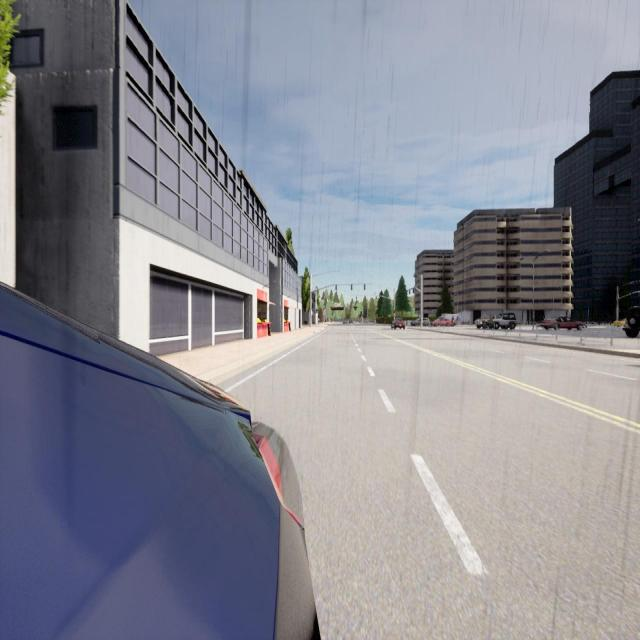Vehicle: (0, 283, 318, 640), (538, 317, 583, 331), (622, 304, 640, 337), (492, 312, 517, 330), (475, 315, 495, 329), (432, 317, 453, 327), (441, 314, 460, 325), (411, 317, 430, 326), (391, 319, 405, 330), (348, 319, 353, 324), (343, 320, 349, 324)
traffic_light: (336, 284, 338, 290), (394, 310, 396, 314), (412, 289, 414, 293), (351, 284, 352, 290), (364, 284, 365, 290), (409, 289, 410, 294), (356, 294, 357, 298), (365, 295, 366, 299), (376, 296, 377, 298)
